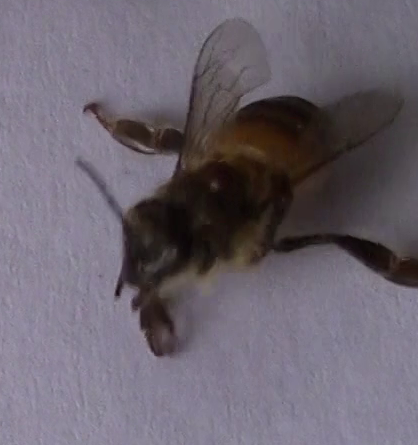Varroa destructor: (202, 163, 237, 194)
